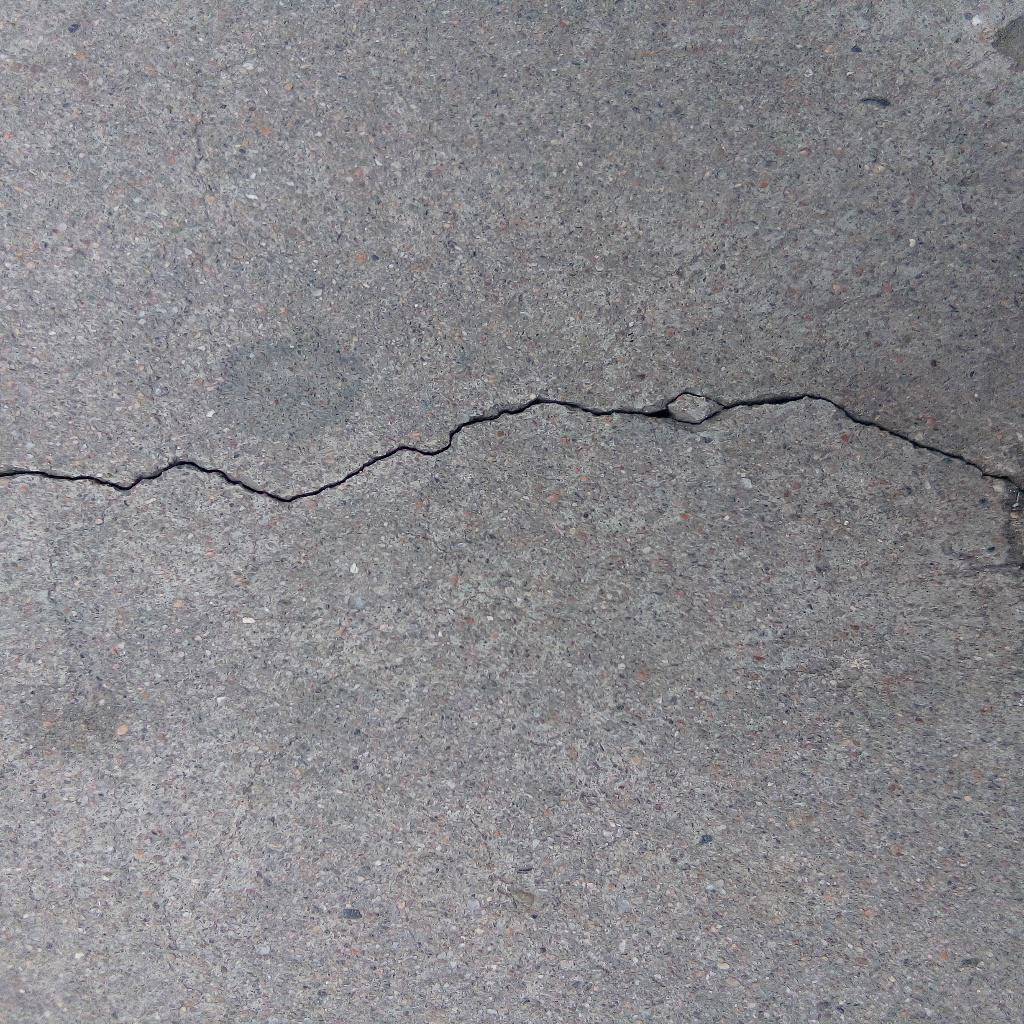Crack: (1, 387, 1024, 504)
